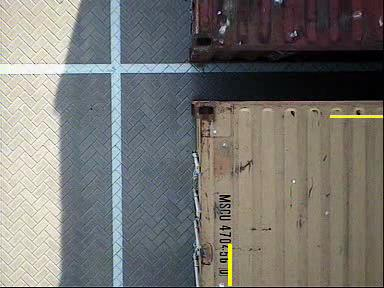groundmarker_2: (196, 141, 250, 246)
